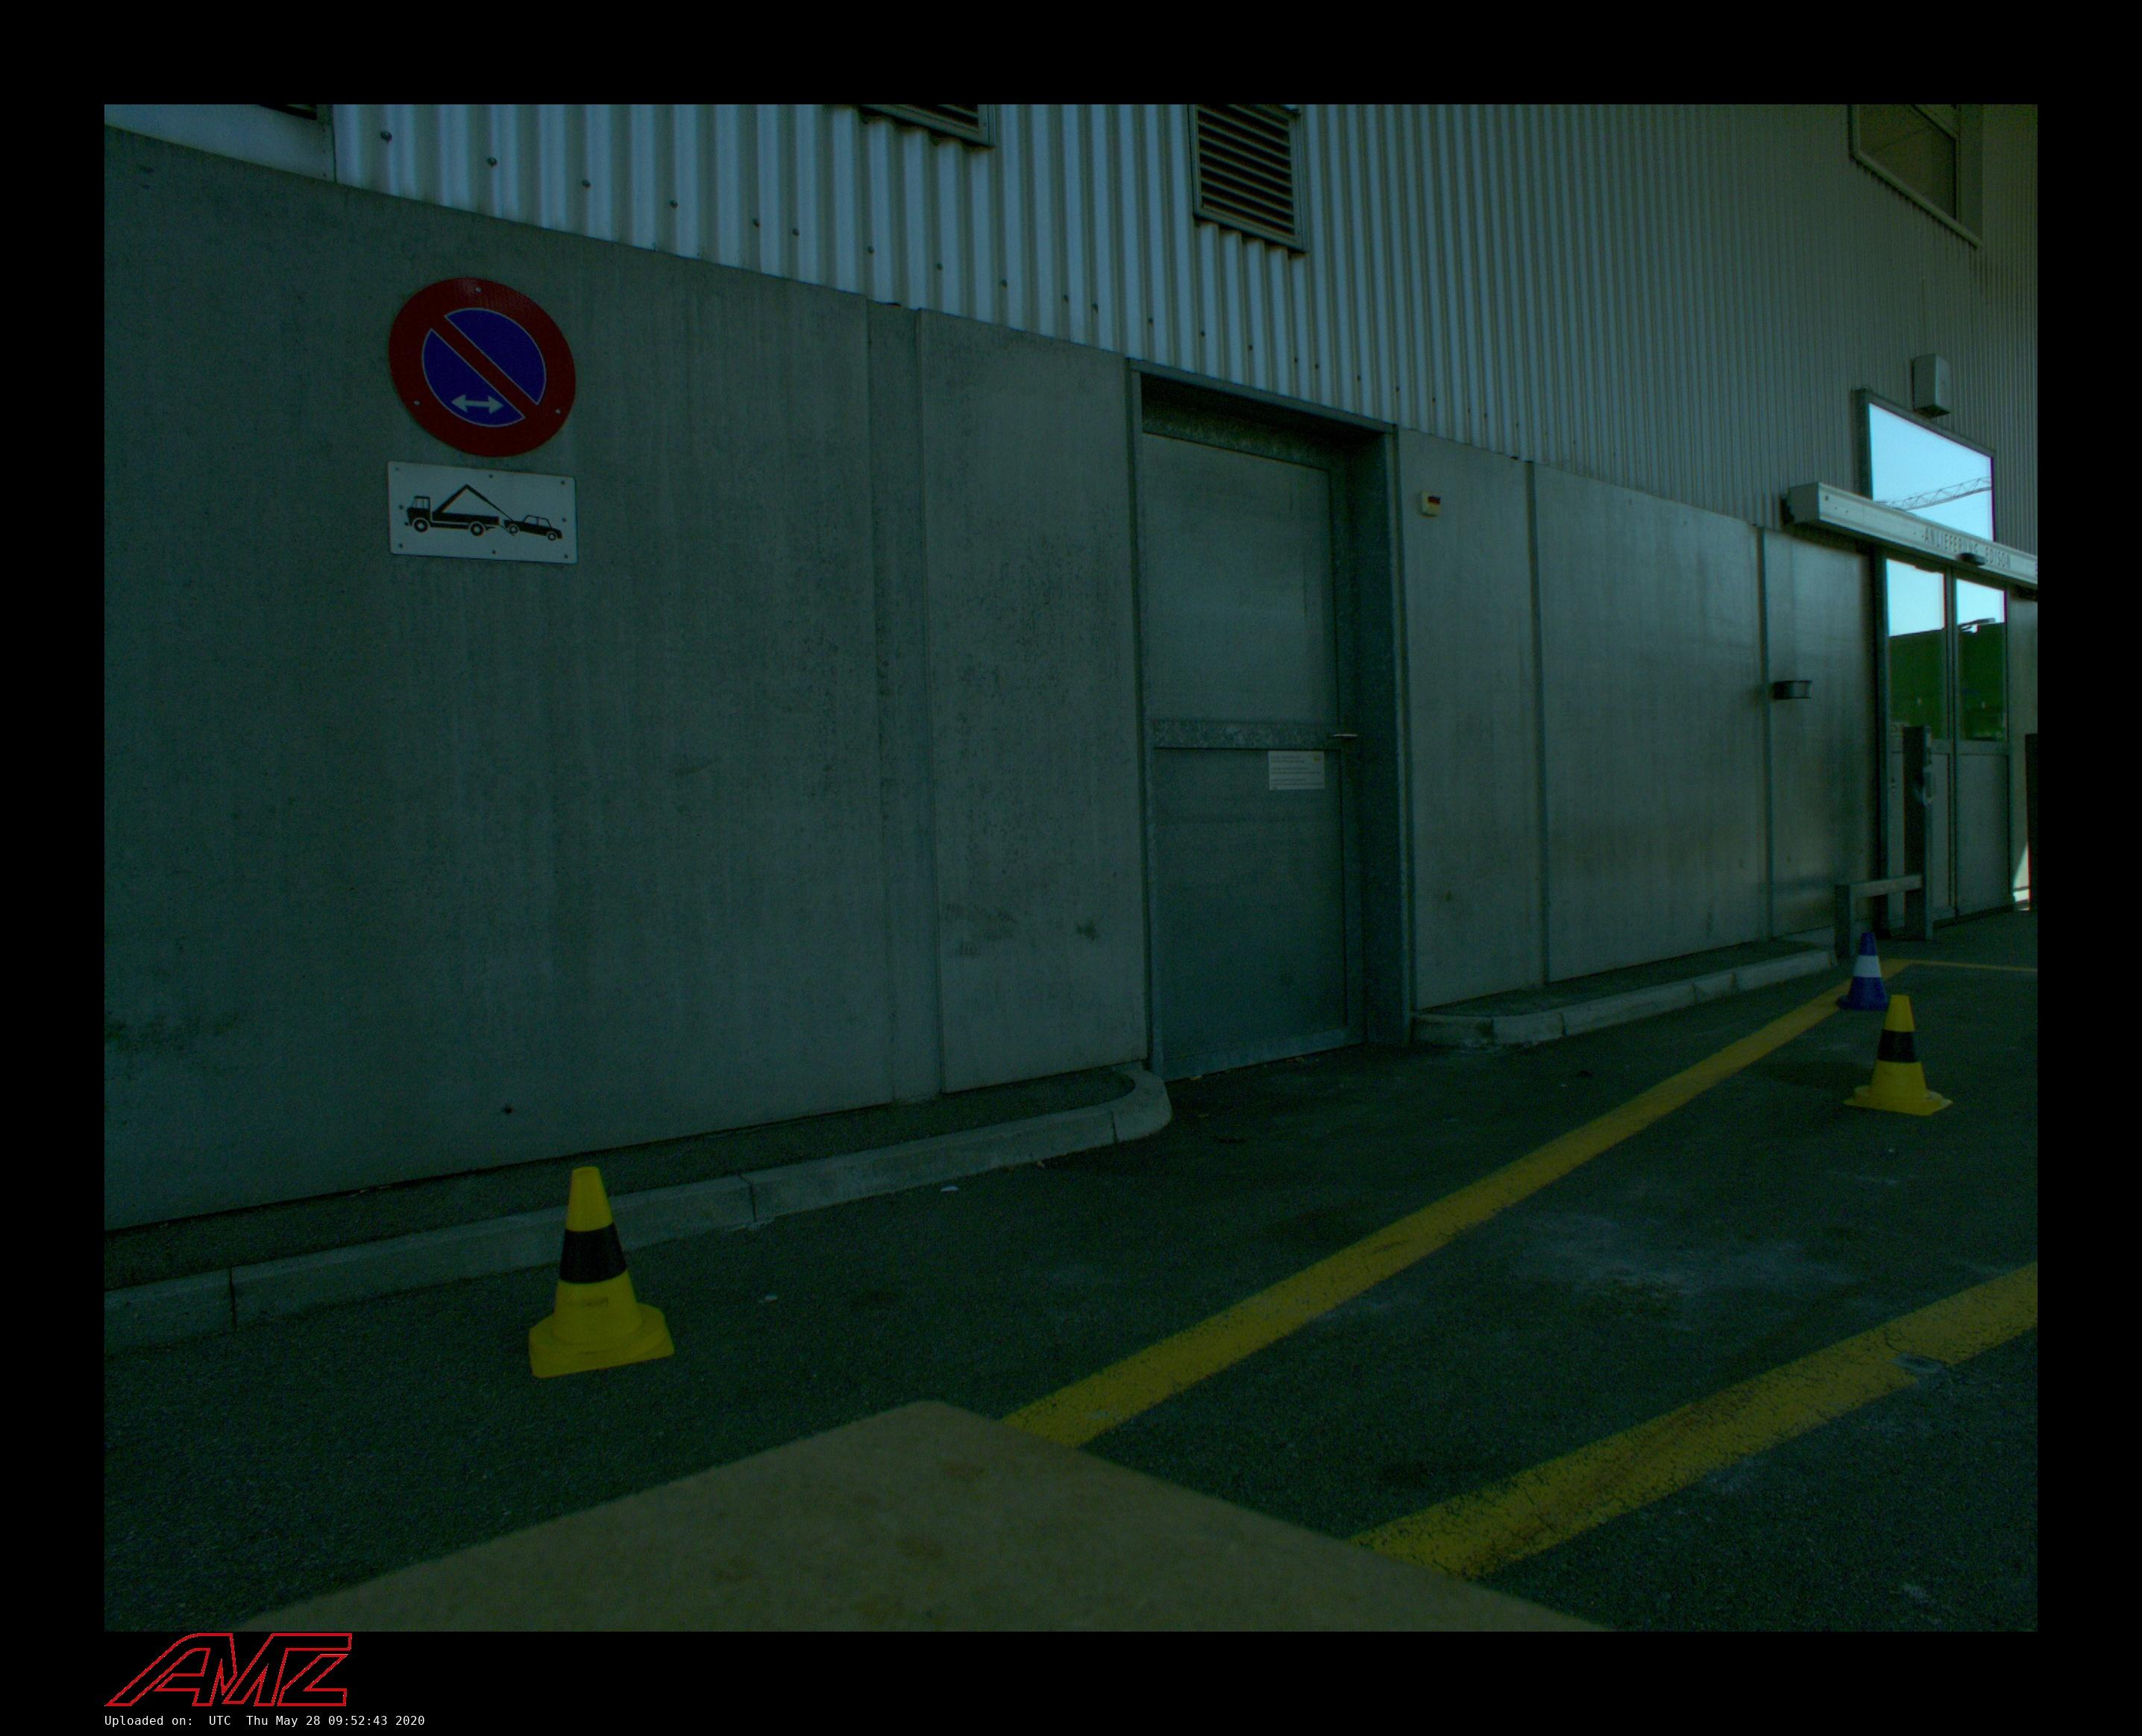blue_cone: (1835, 934, 1889, 1011)
yellow_cone: (528, 1167, 675, 1378), (1843, 996, 1952, 1118)
